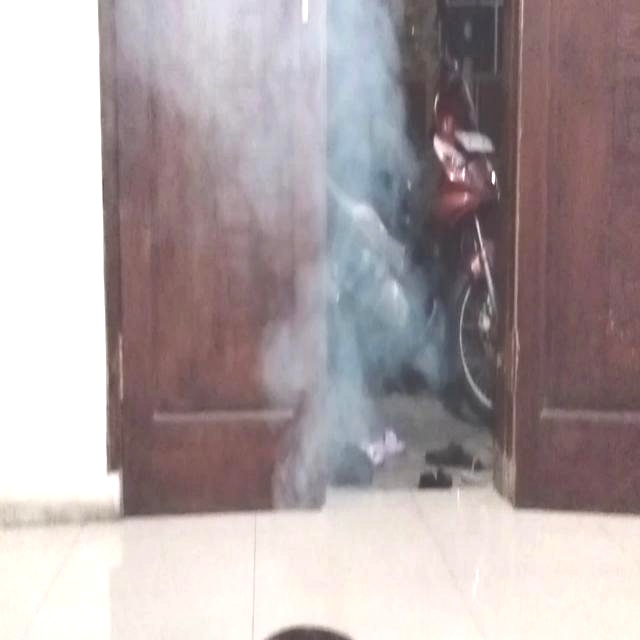smoke: (205, 11, 403, 502)
